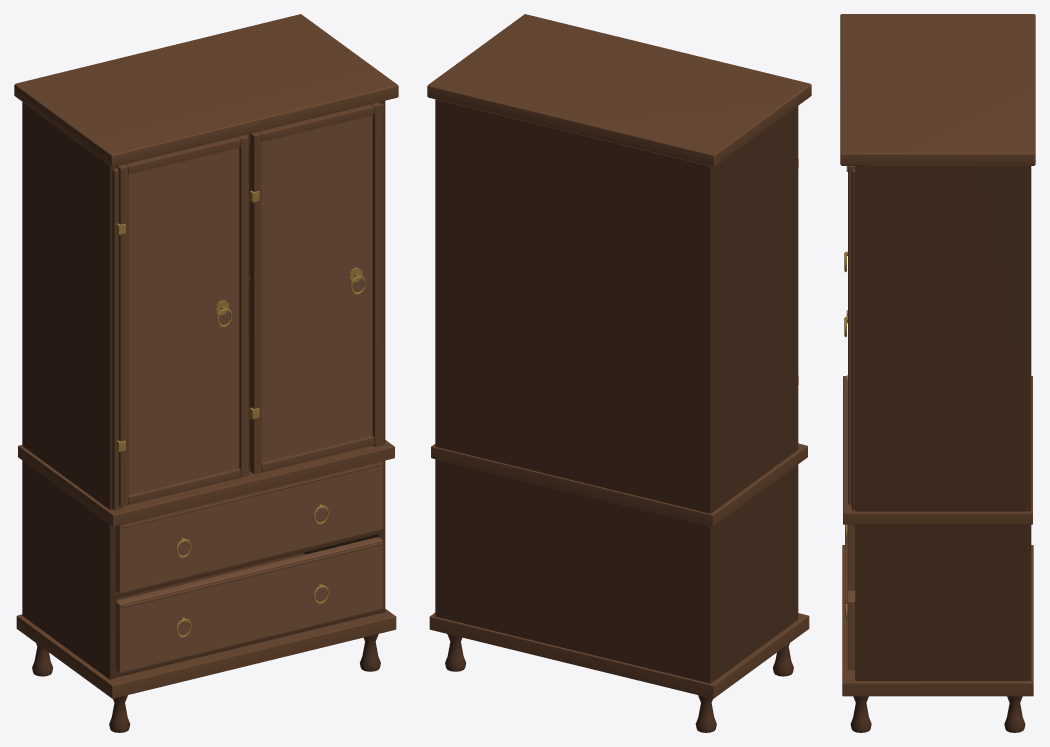
The model's file is rpg-mansion-linen-press-01.glb.
The picture shows the model from 3 angles, left to right: view 1: azimuth 30°, elevation 25°; view 2: azimuth 150°, elevation 25°; view 3: azimuth 270°, elevation 25°; orthographic projection.
Visible parts, largest first — view 1: rpg-mansion-linen-press-01; view 2: rpg-mansion-linen-press-01; view 3: rpg-mansion-linen-press-01.
Boxes of the visible parts, x1=… form: rpg-mansion-linen-press-01: x1=14, y1=14, x2=398, y2=732; rpg-mansion-linen-press-01: x1=427, y1=14, x2=811, y2=732; rpg-mansion-linen-press-01: x1=840, y1=14, x2=1035, y2=732.
Size of the model in its own units: 1 by 1.95 by 0.591.
